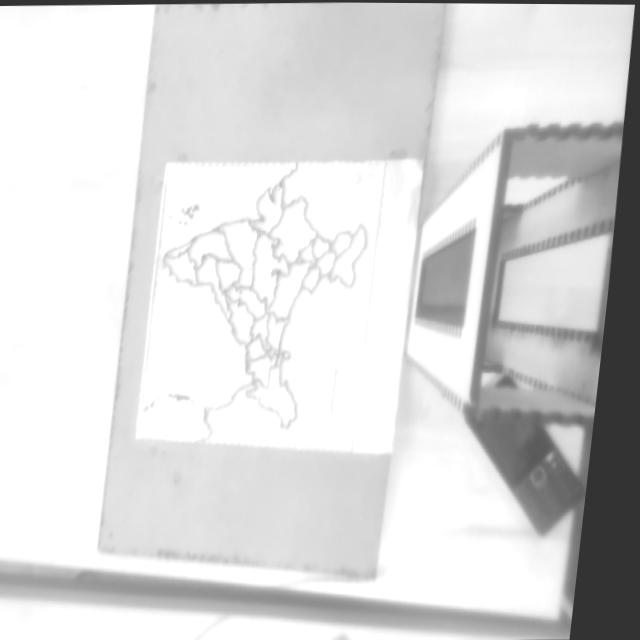map: (134, 136, 385, 462)
